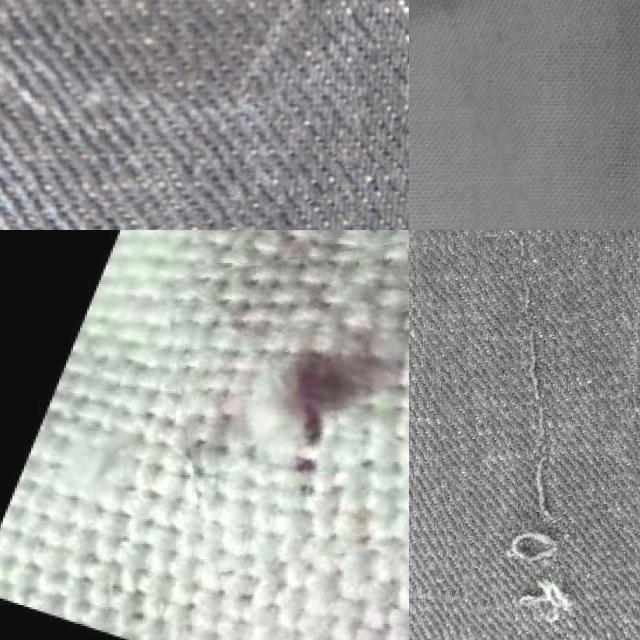Hole: (409, 0, 605, 85)
Thread_other: (414, 230, 640, 640), (173, 250, 409, 564)
